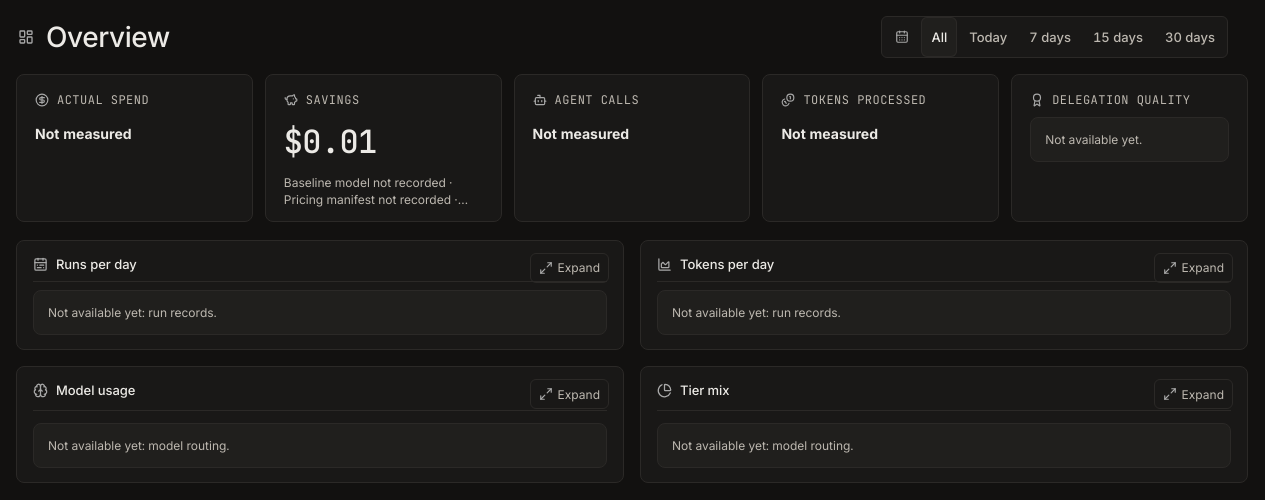
Test: OMN-21015 AC7: the Overview page › Q6: with today chosen, every panel that does not follow the window says it shows all time
The width and height of the screenshot is (1265, 500).
Click the radio button with aria-label "Today (UTC)" at coordinates (988, 37), box [959,17,1017,57]
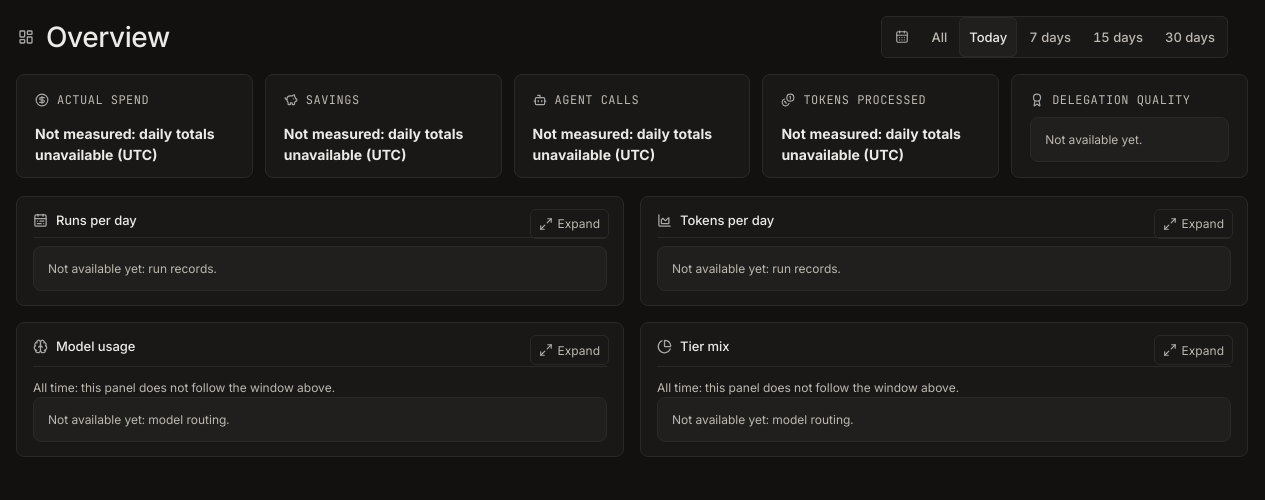
Expected: the element "Model usage" shows "All time: this panel does not follow the window above.", [33,380,335,395]
Expected: the element "Tier mix" shows "All time: this panel does not follow the window above.", [657,380,959,395]
